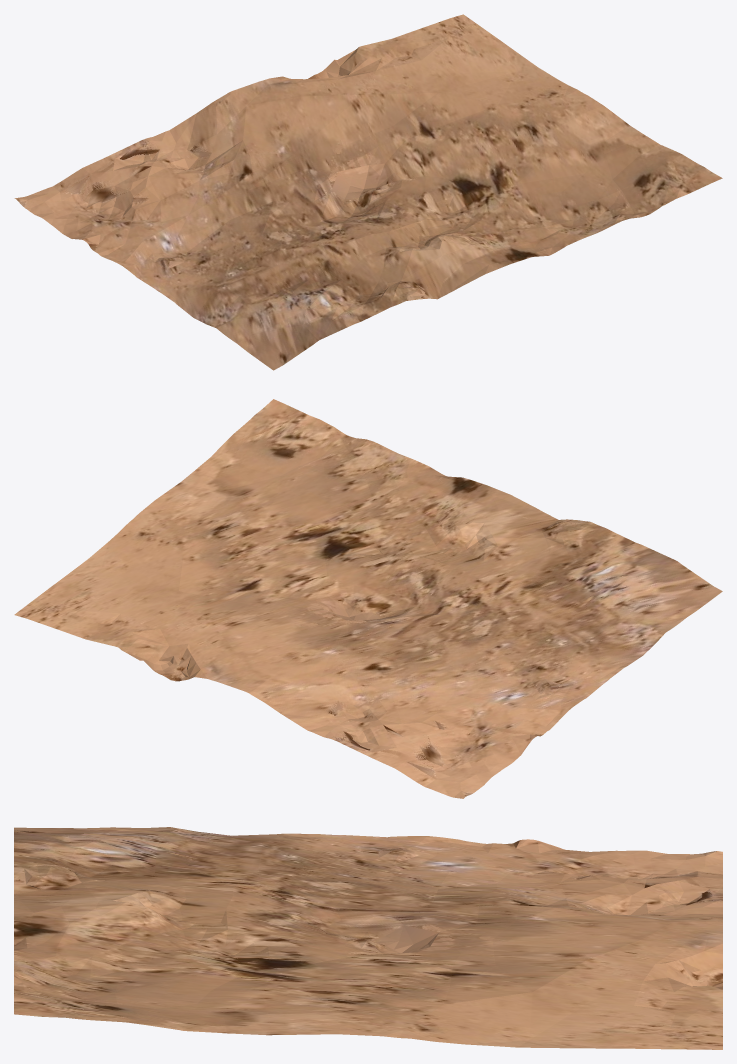
3 renders of one model, top to bottom at view 1: azimuth 30°, elevation 25°; view 2: azimuth 150°, elevation 25°; view 3: azimuth 270°, elevation 25°, orthographic. The views are drawn at different scales.
Size of the model in its own units: 1.04 by 0.2267 by 1.04.
2 materials, 2 textured.
